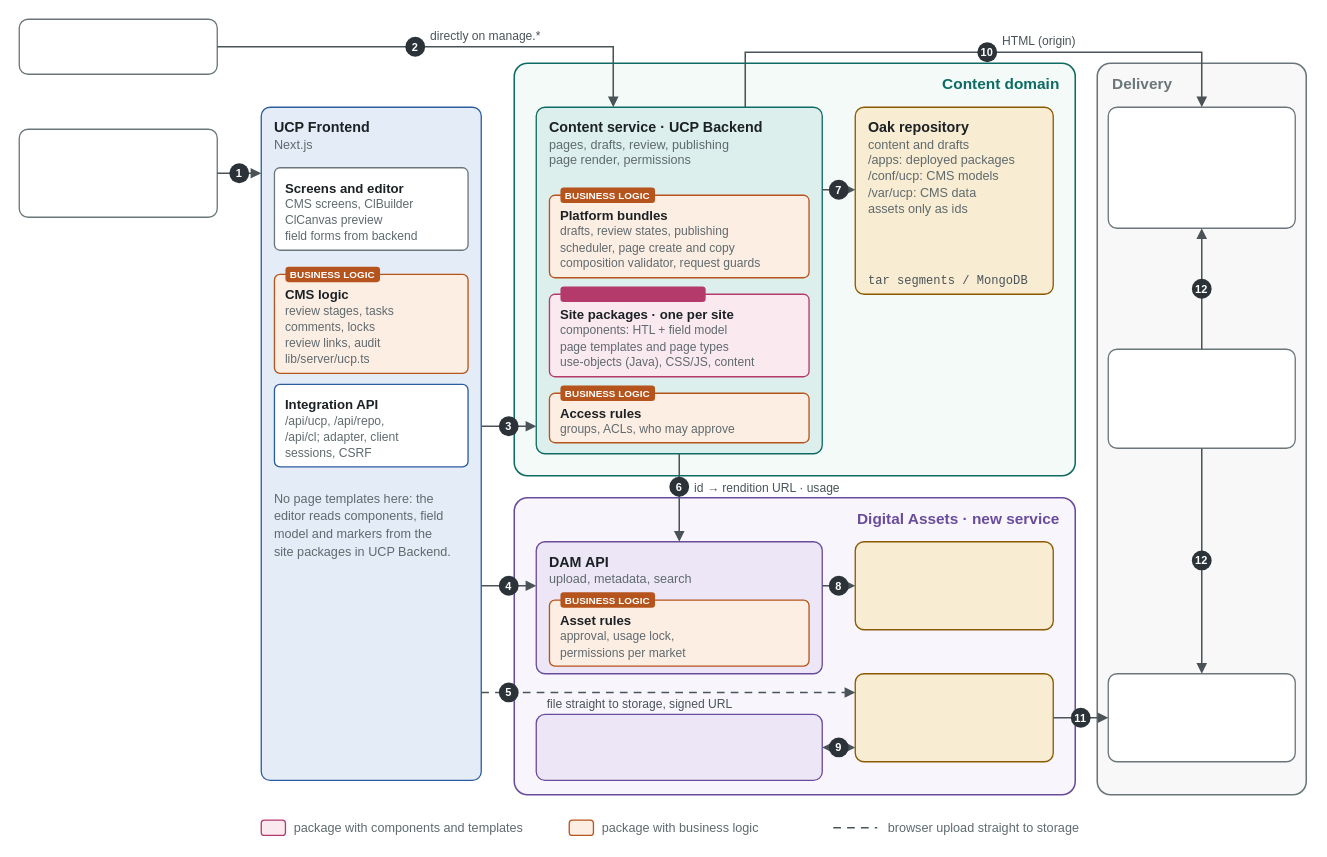
Image size: 1327x857. Some labels were removed from this diagram. The centre of each missing label's shape, as x and y in pixels:
Administrators console, repository: the point at 117,46
COMPONENTS · TEMPLATES: the point at 632,293
Editors, reviewers create, review, publish: the point at 117,172
Media CDN media.* images, video, PDF: the point at 1201,717
Metadata database folders, versions, alt usage on pages: the point at 953,585
Object storage originals, renditions files, never in Oak: the point at 953,717
Renditions · workers scan, thumbnails, WebP/AVIF, video: the point at 678,747
Site CDN www.*, market hosts HTML rendered from site package templates: the point at 1201,167
Visitors browsers, apps: the point at 1201,398
